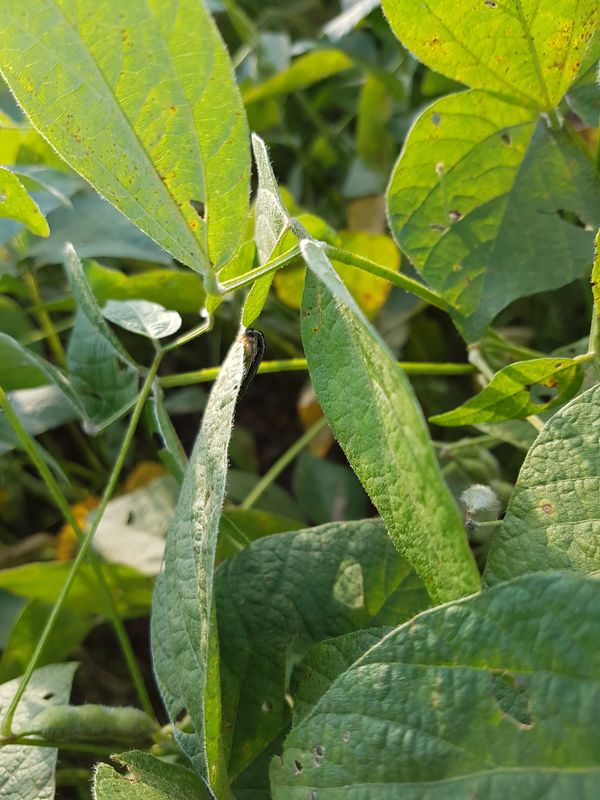Spodoptera_albula: (213, 319, 277, 415)
